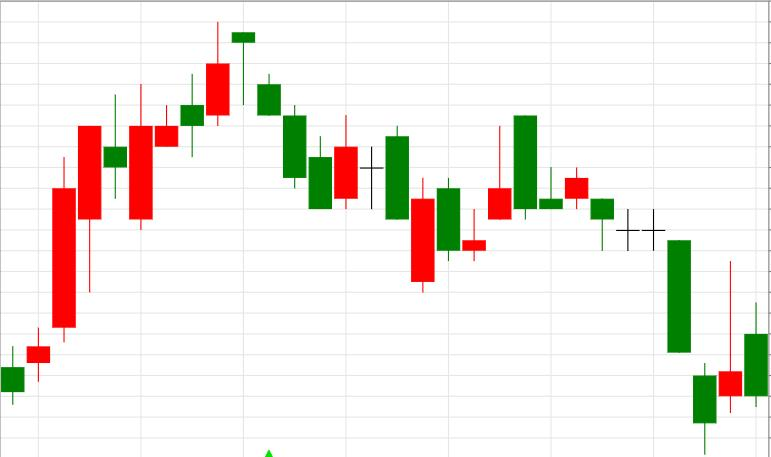evening_star_fall: (27, 23, 281, 381)
